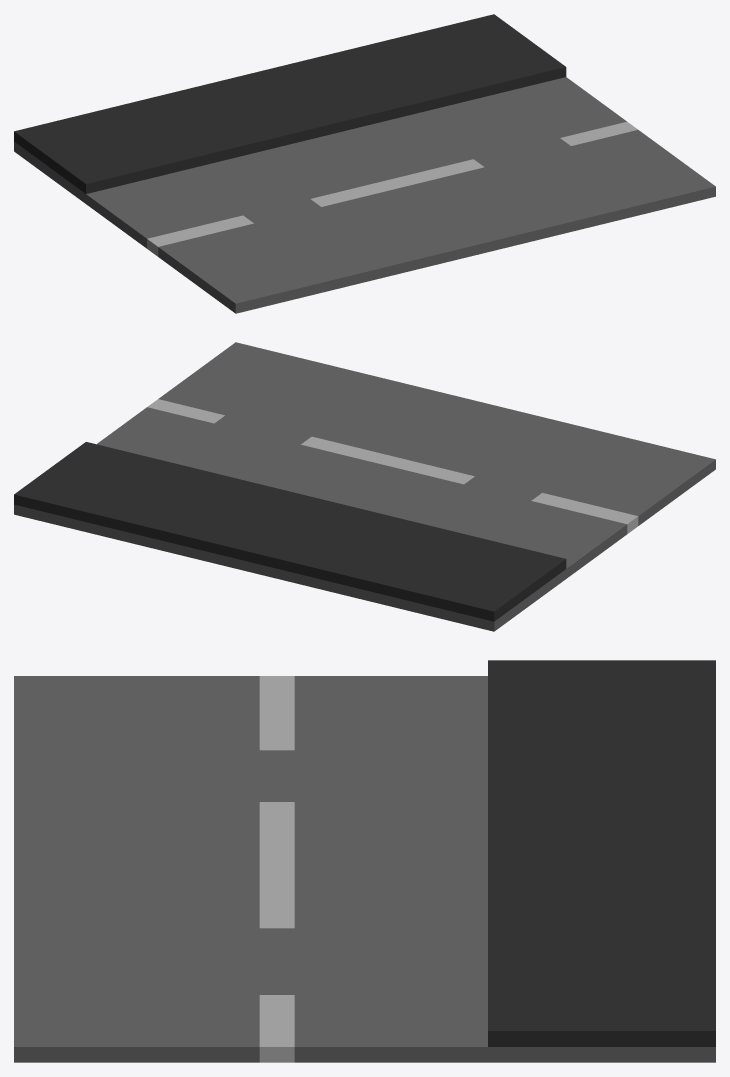
File: road1.obj
The picture shows the model from 3 angles, top to bottom: view 1: azimuth 30°, elevation 25°; view 2: azimuth 150°, elevation 25°; view 3: azimuth 270°, elevation 25°; orthographic projection. The views are drawn at different scales.
Size of the model in its own units: 5 by 0.2 by 4.
1 material, 1 textured.
